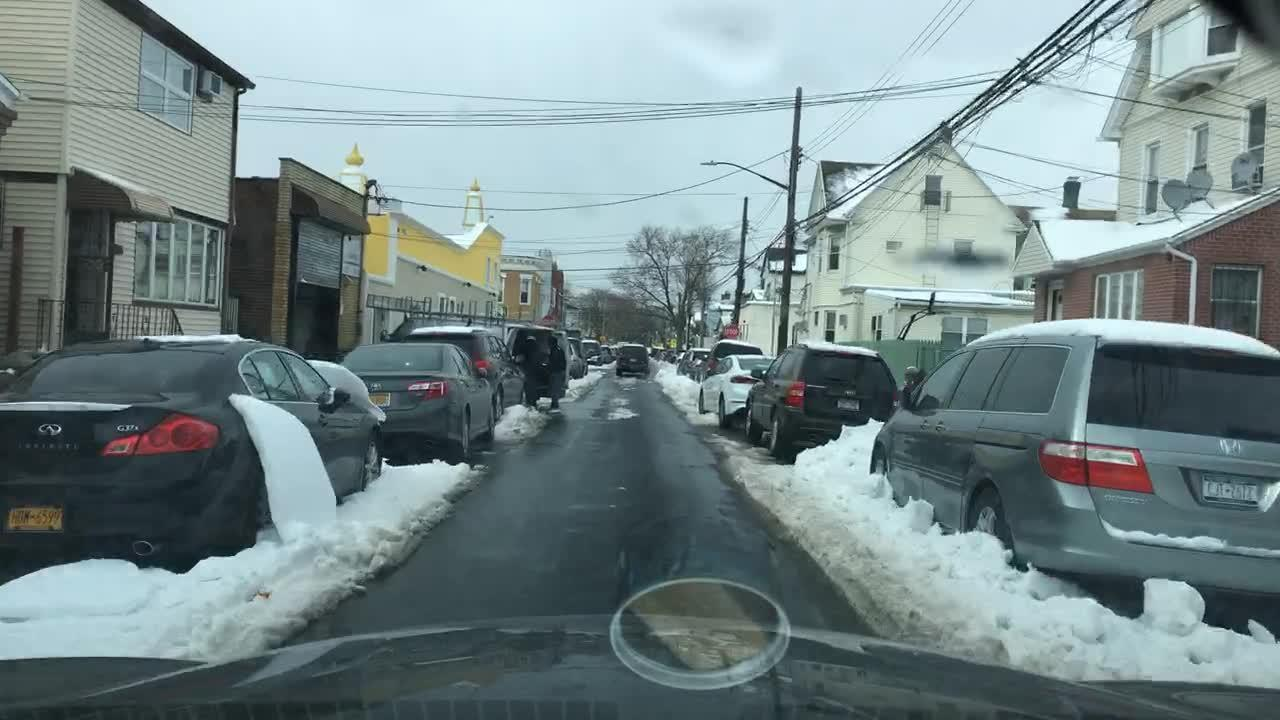Infiniti: (36, 421, 64, 441)
